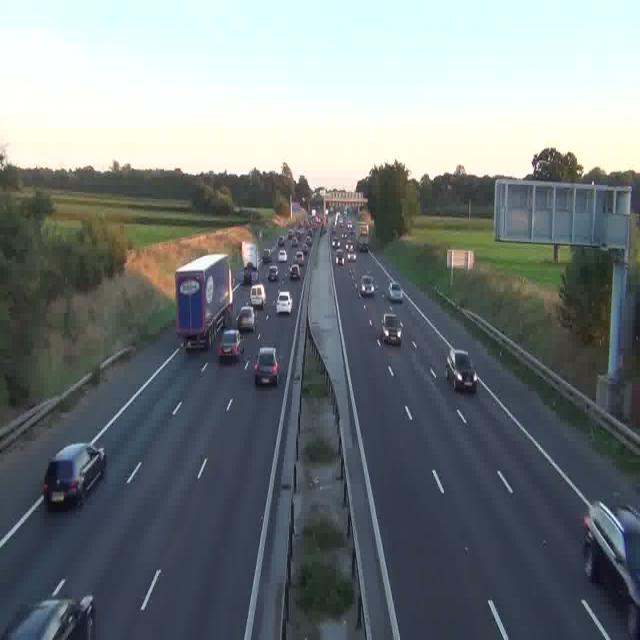car: (583, 502, 640, 639), (42, 442, 106, 508), (2, 594, 94, 639), (446, 348, 476, 393), (254, 348, 280, 386), (218, 329, 244, 362), (381, 313, 402, 345), (238, 305, 256, 331), (276, 290, 292, 314), (249, 286, 265, 308), (388, 282, 404, 301), (360, 276, 374, 297), (241, 266, 256, 285), (290, 263, 300, 280), (268, 266, 278, 282), (337, 252, 348, 266), (278, 249, 287, 262), (296, 249, 305, 262), (347, 249, 356, 262), (279, 234, 287, 245)
truck: (174, 254, 235, 348), (242, 241, 260, 274)
